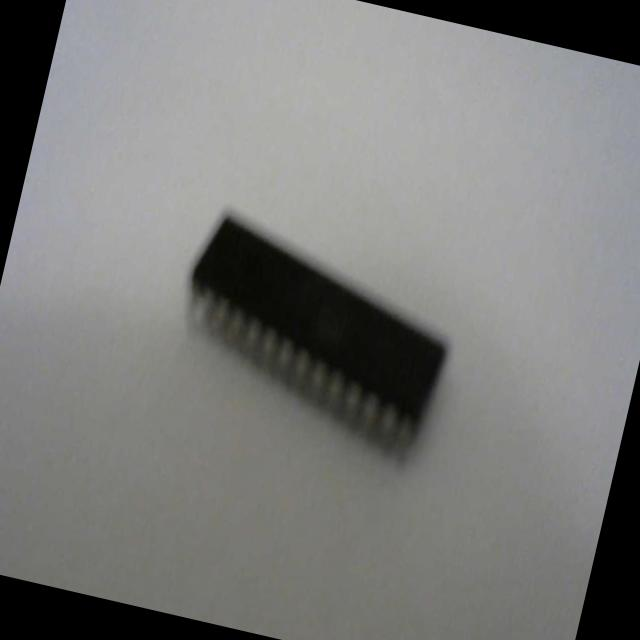atmega: (157, 198, 470, 468)
